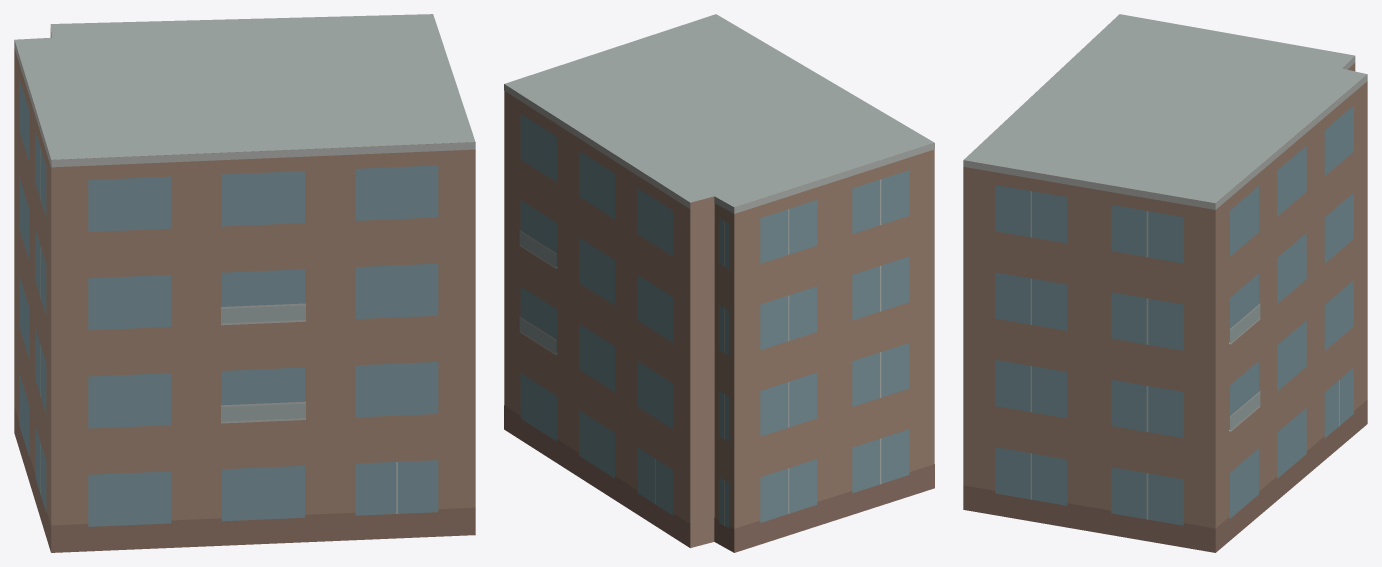
File: survey-upis-33015239.glb
3 renders of one model, left to right at view 1: azimuth 30°, elevation 25°; view 2: azimuth 150°, elevation 25°; view 3: azimuth 270°, elevation 25°, orthographic. The views are drawn at different scales.
Visible parts, largest first — view 1: survey-upis-33015239.tmp; view 2: survey-upis-33015239.tmp; view 3: survey-upis-33015239.tmp.
Boxes of the visible parts, <box> form: survey-upis-33015239.tmp: <box>14,14,475,552</box>; survey-upis-33015239.tmp: <box>504,14,934,552</box>; survey-upis-33015239.tmp: <box>963,14,1367,552</box>.
Size of the model in its own units: 14.87 by 12.8 by 13.42.
